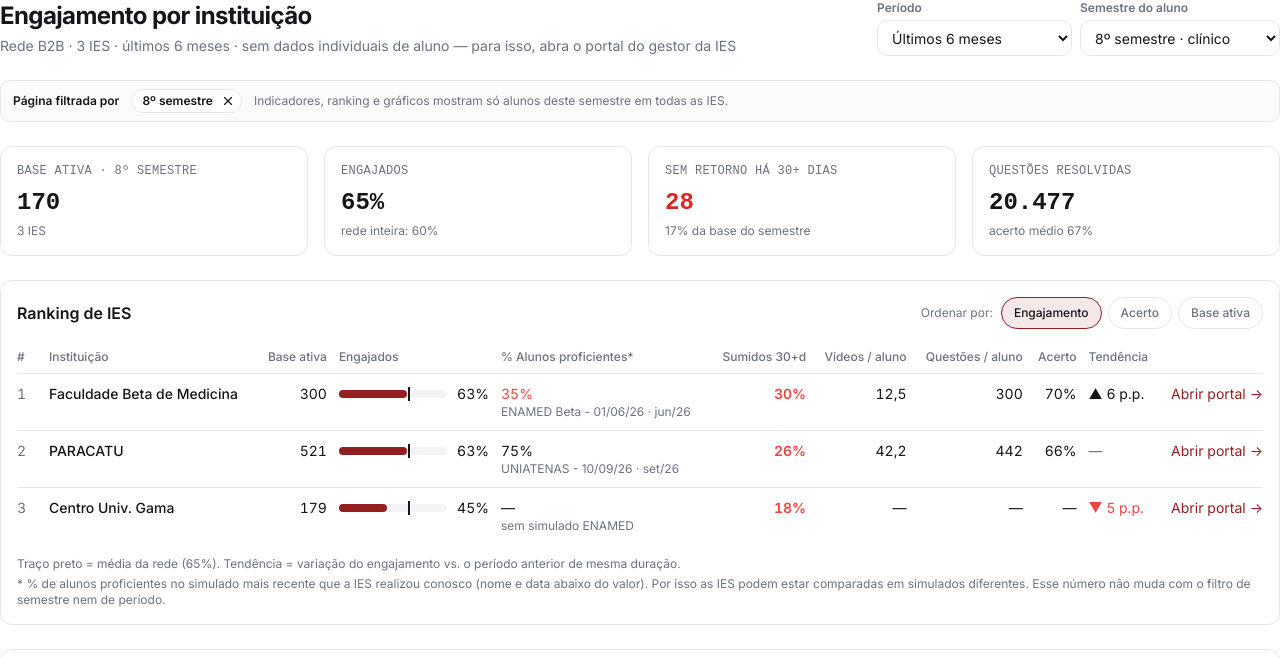
EngajamentoSanarflixPage (§12.5) › o "×" da faixa limpa o semestre
This screenshot has width=1280, height=658.
Expected: the dropdown labelled "Semestre do aluno" shows "8º semestre · clínico", [1080,20,1279,56]
Click the button named "Remover filtro" at (228, 101), box [219,92,237,110]
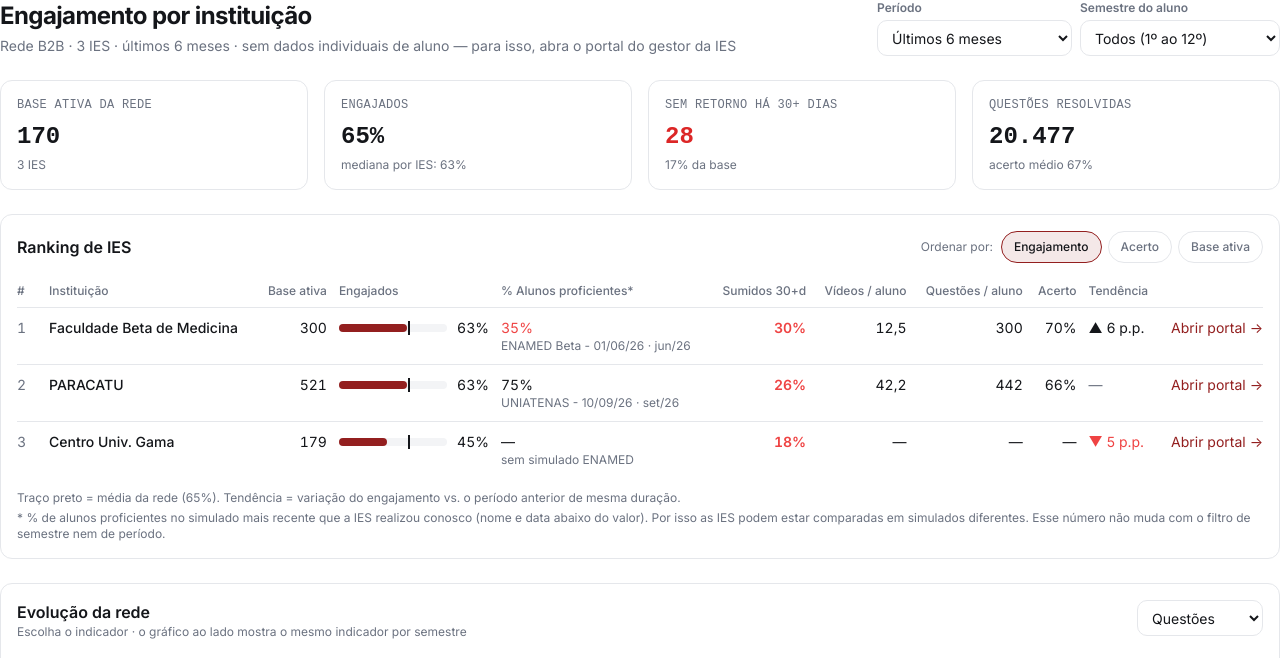
Expected: the dropdown labelled "Semestre do aluno" shows "Todos (1º ao 12º)", [1080,20,1279,56]
